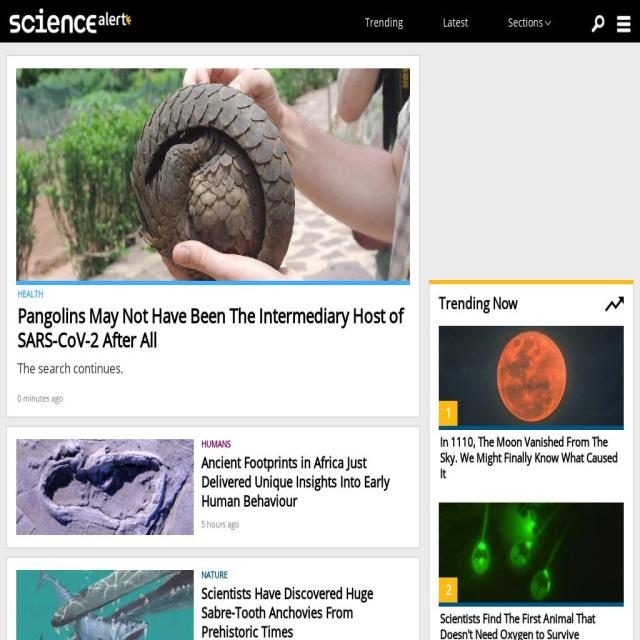image: (16, 68, 410, 282), (438, 326, 624, 426), (438, 502, 624, 602), (16, 439, 194, 535), (16, 570, 194, 640), (10, 8, 132, 34), (590, 12, 608, 36), (605, 296, 624, 312), (617, 15, 631, 33)
link: (18, 301, 403, 353), (200, 452, 390, 511), (201, 582, 373, 640), (440, 432, 618, 482), (440, 609, 595, 640), (200, 437, 230, 451), (200, 568, 228, 582), (18, 287, 43, 301)
text: (428, 55, 634, 263), (18, 360, 408, 378), (439, 292, 569, 314), (16, 281, 410, 286), (438, 425, 624, 430), (18, 388, 63, 405), (438, 602, 624, 606), (365, 14, 404, 31), (508, 14, 546, 31), (200, 514, 240, 530), (438, 400, 458, 426), (438, 576, 458, 602), (443, 14, 469, 31)
